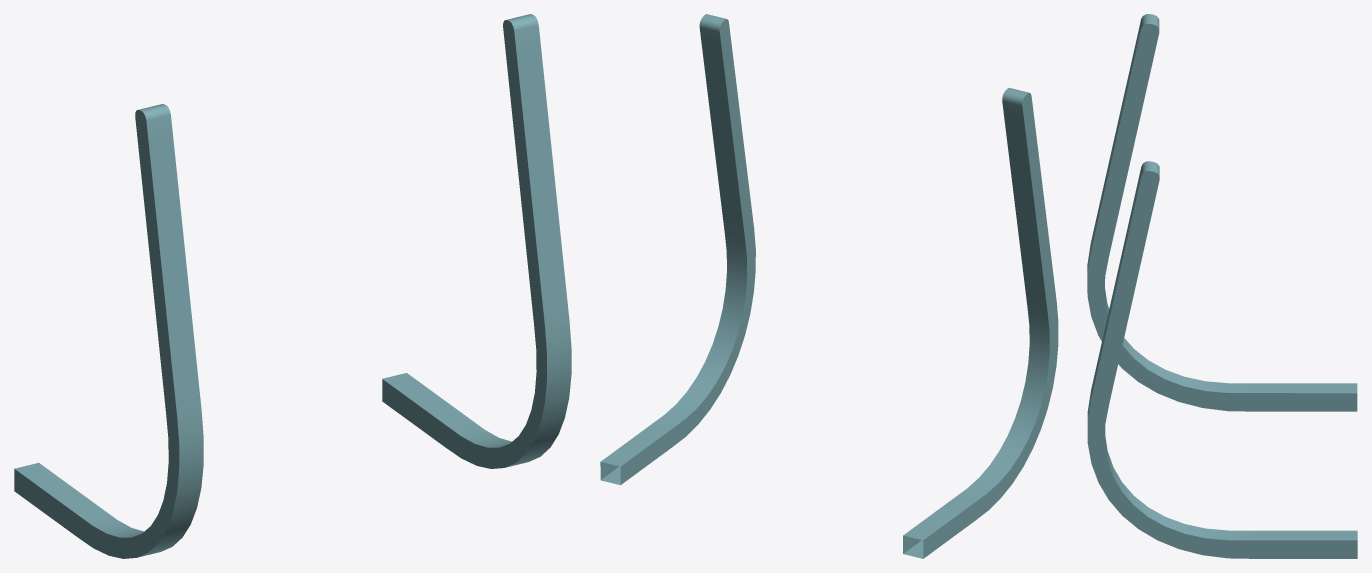
File: table_drawing_place.fbx
3 renders of one model, left to right at view 1: azimuth 30°, elevation 25°; view 2: azimuth 150°, elevation 25°; view 3: azimuth 270°, elevation 25°, orthographic. The views are drawn at different scales.
Parts seen in each view (by area): view 1: table_drawing_place; view 2: table_drawing_place; view 3: table_drawing_place.
Part boxes in pixels (x1,y1,x2,y2): table_drawing_place: (14, 14, 571, 558); table_drawing_place: (600, 14, 1058, 558); table_drawing_place: (1087, 14, 1357, 558).
Size of the model in its own units: 125 by 143 by 90.54.
